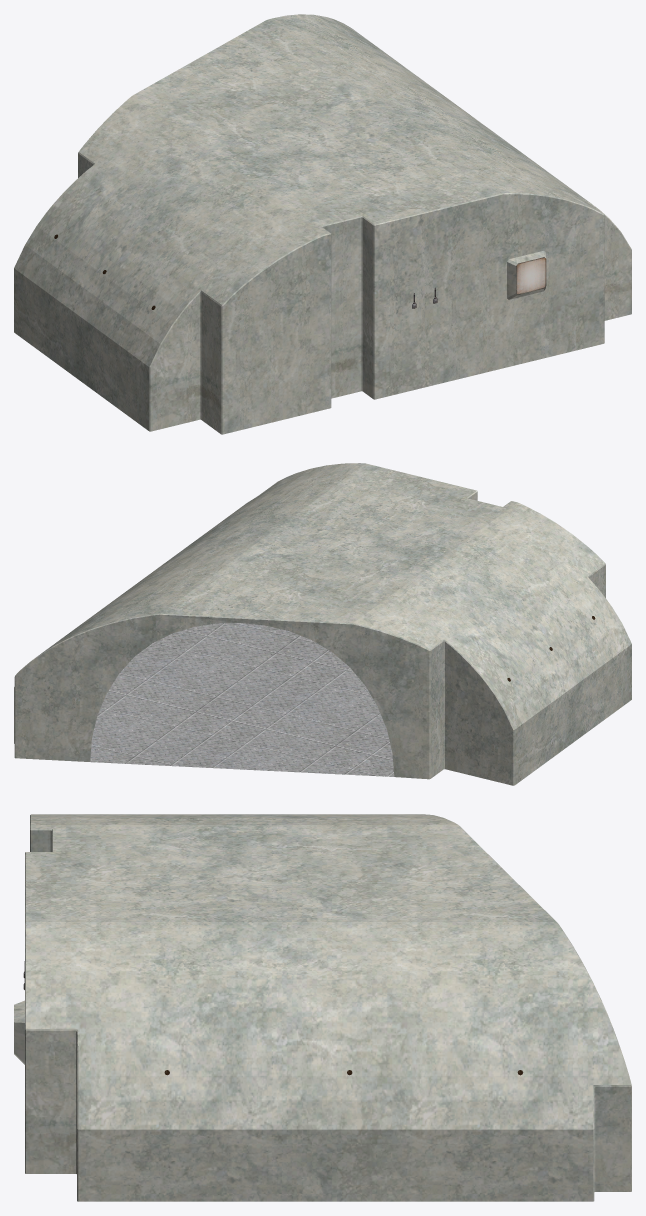
The model's file is thm_all_cantina_r9_alcove5_mesh_r9.fbx.
3 renders of one model, top to bottom at view 1: azimuth 30°, elevation 25°; view 2: azimuth 150°, elevation 25°; view 3: azimuth 270°, elevation 25°, orthographic. The views are drawn at different scales.
Visible parts, largest first — view 1: mesh_node; view 2: mesh_node; view 3: mesh_node.
Part boxes in pixels (x1,y1,x2,y2): mesh_node: [14, 14, 631, 434]; mesh_node: [14, 463, 631, 785]; mesh_node: [14, 814, 631, 1201].
Size of the model in its own units: 12 by 4.15 by 11.86.
